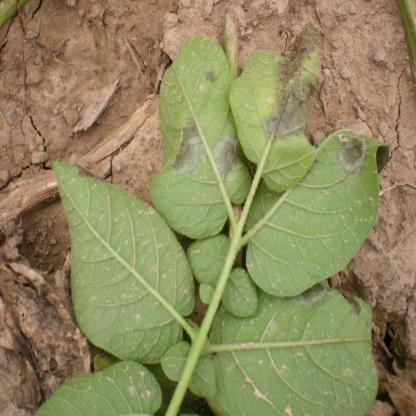Potato leaf: (237, 124, 392, 301), (152, 33, 252, 247), (232, 44, 328, 194)
